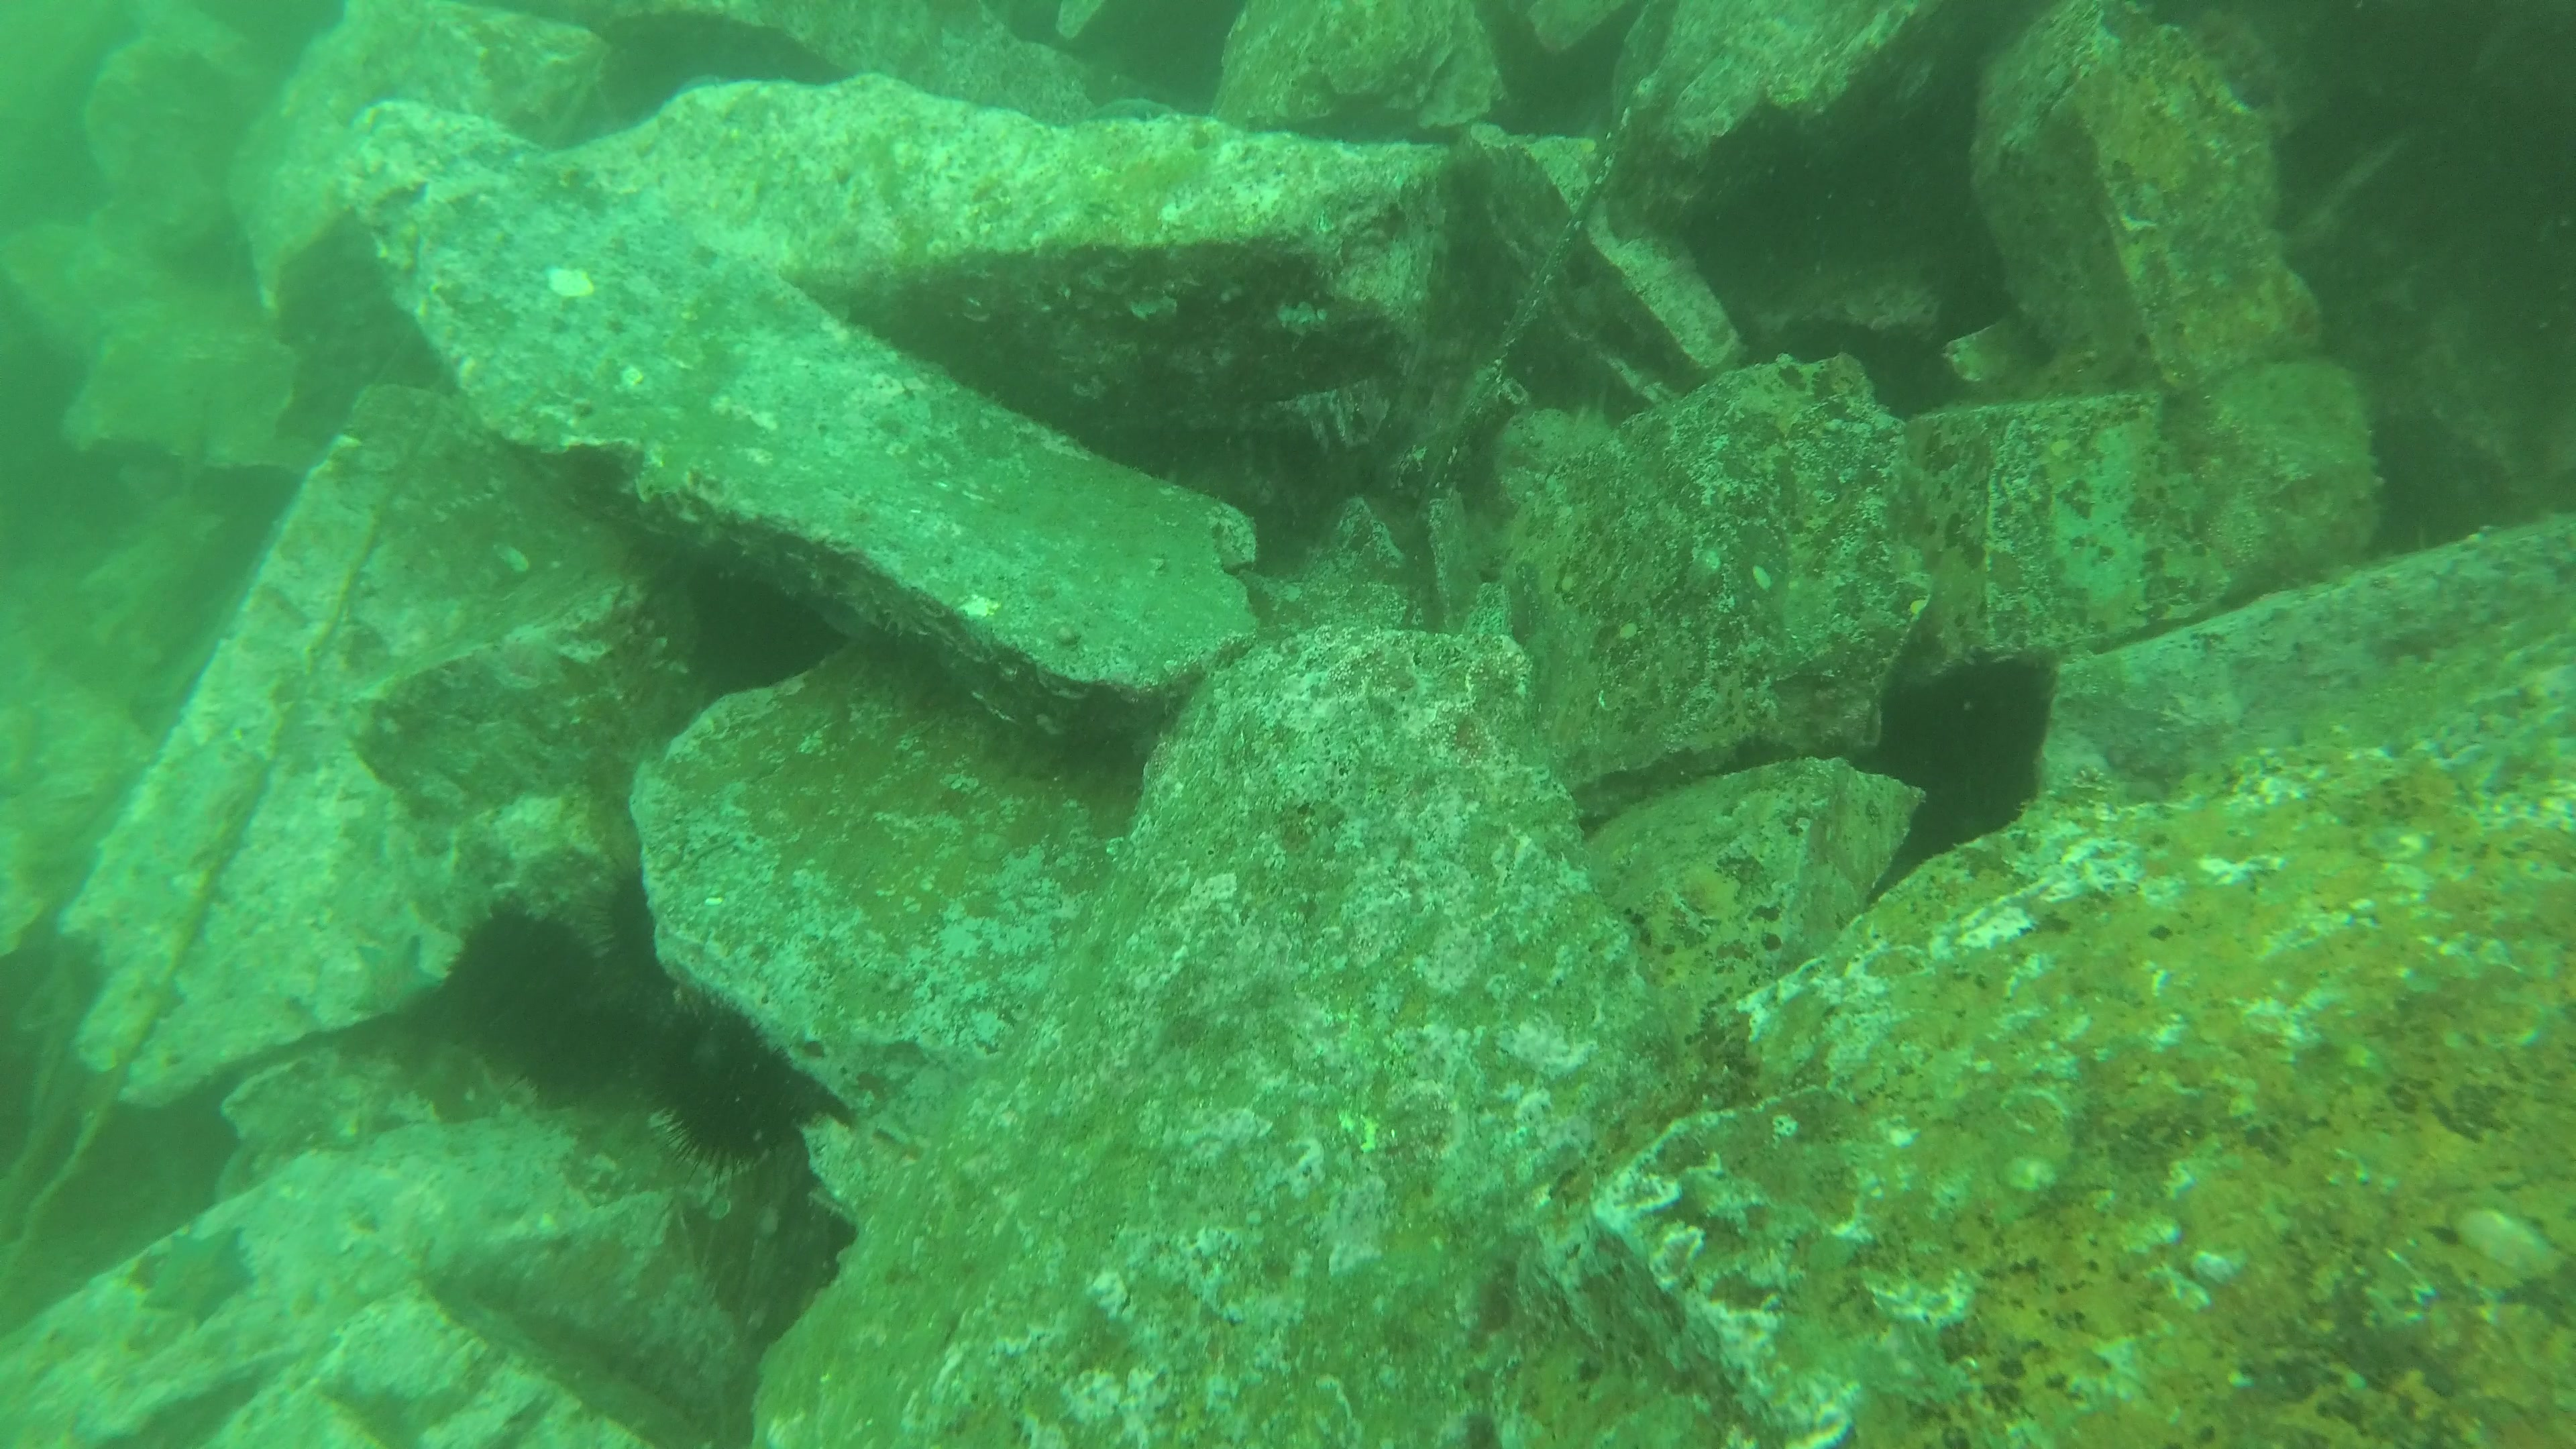echinus: (630, 989, 823, 1192), (441, 904, 616, 1099), (579, 853, 699, 1003)
